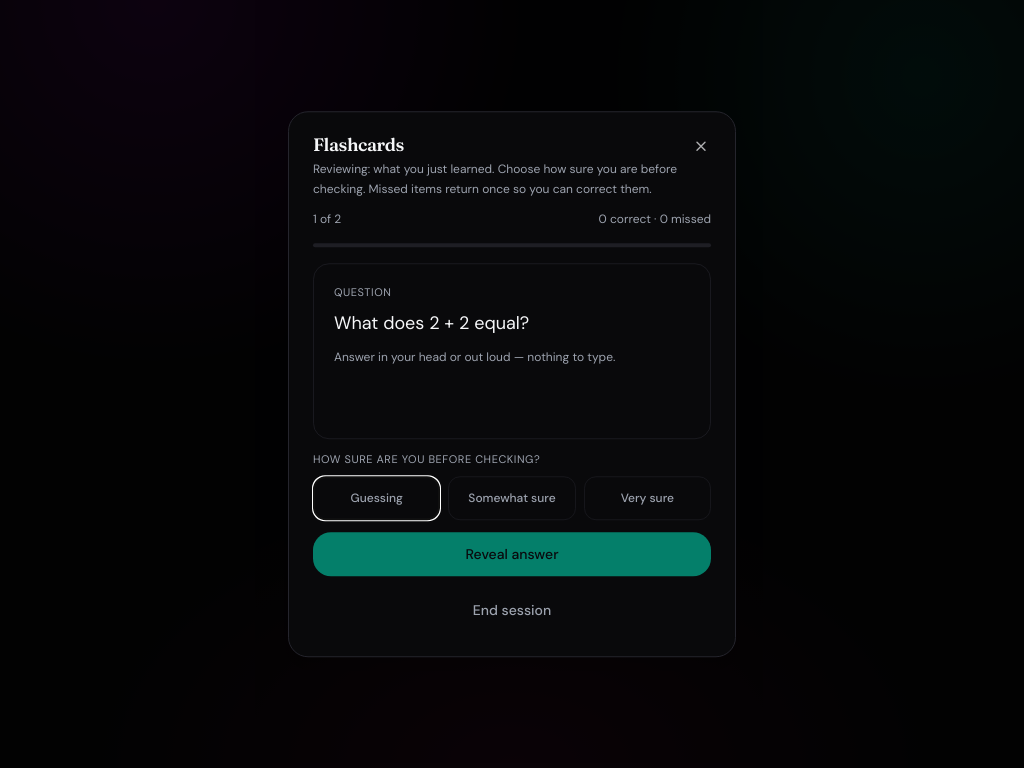
Test case: real flashcard runner › restores an unresolved miss and saves its later recovery in the same evidence segment
The width and height of the screenshot is (1024, 768).
Later steps or results of the test are not shown.
Step 1. Click the button "Very sure" → (647, 498), box [584,476,711,520]
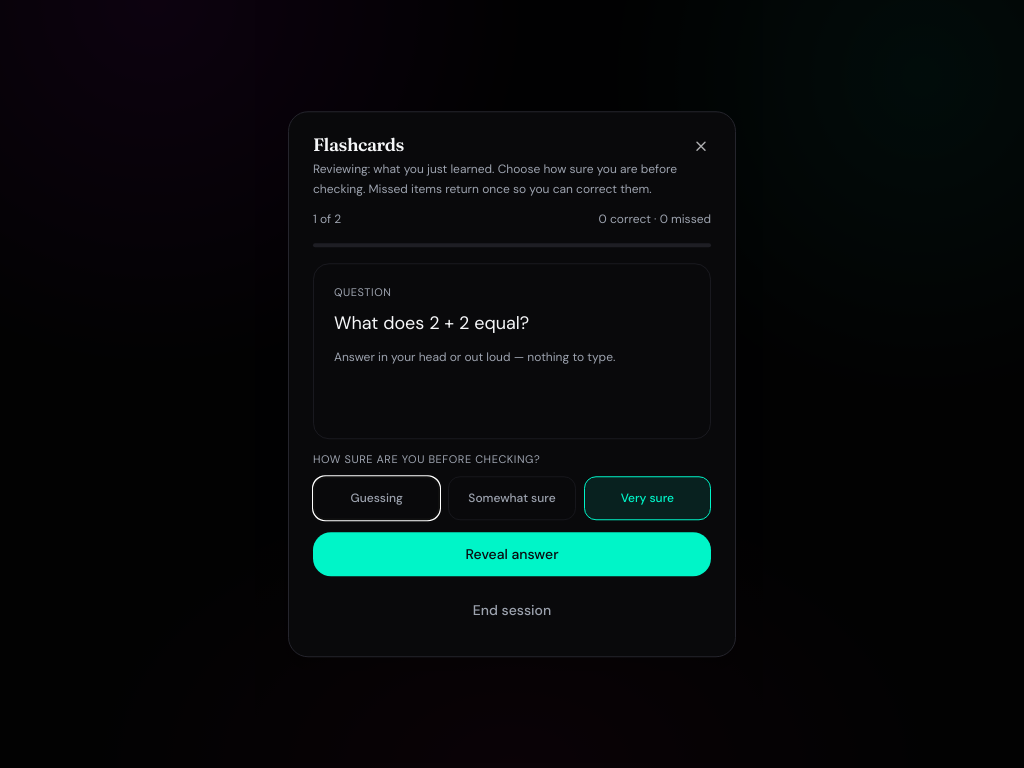
Step 2. Click the button "Reveal answer" → (512, 554), box [313,532,711,576]
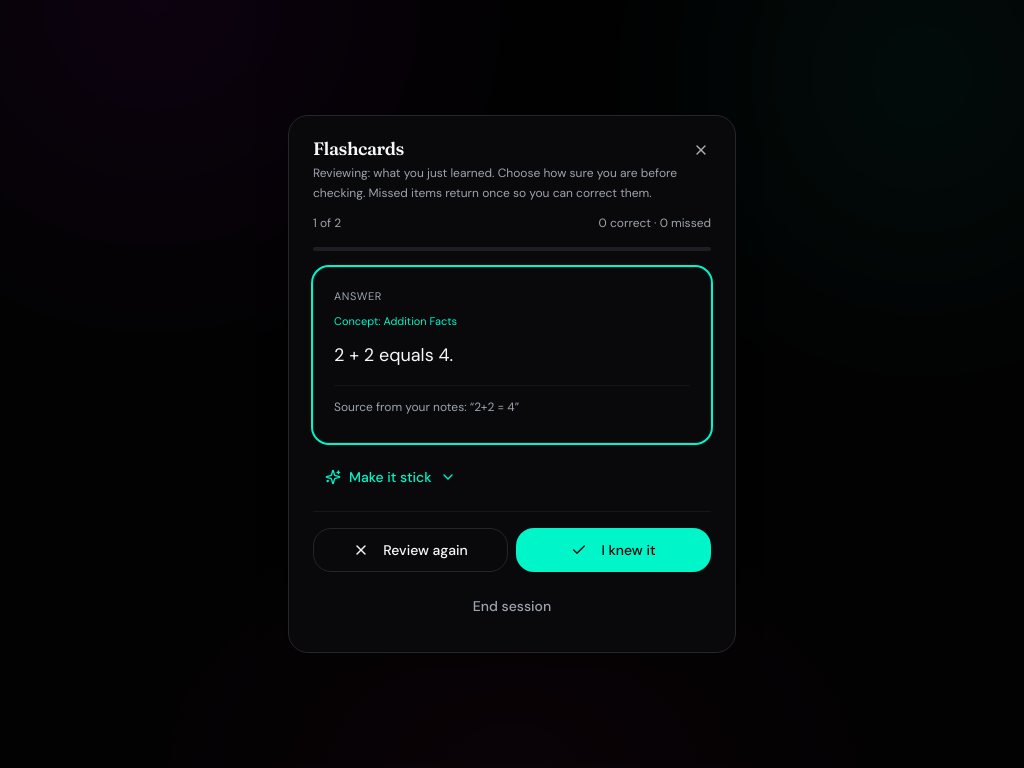
Step 3. Click the button "Review again" → (410, 550), box [313,528,508,572]
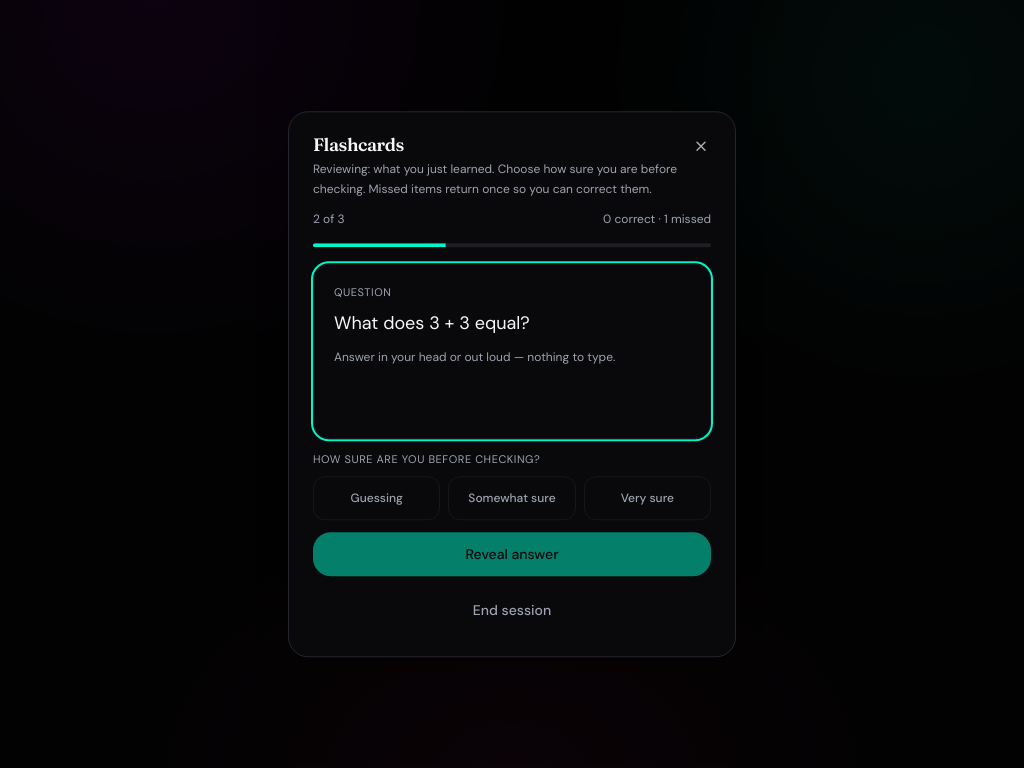
expect the text "What does 3 + 3 equal?" is shown: met, box [334,311,530,335]
